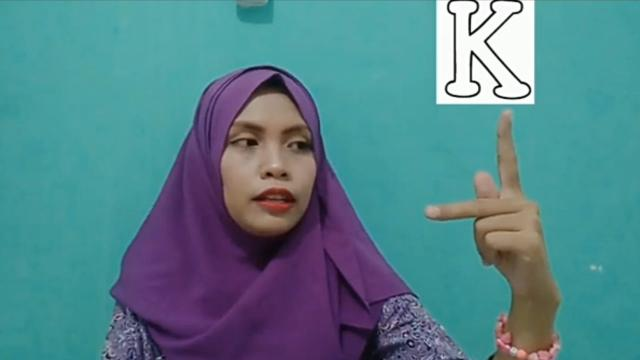K: (422, 109, 564, 304)
